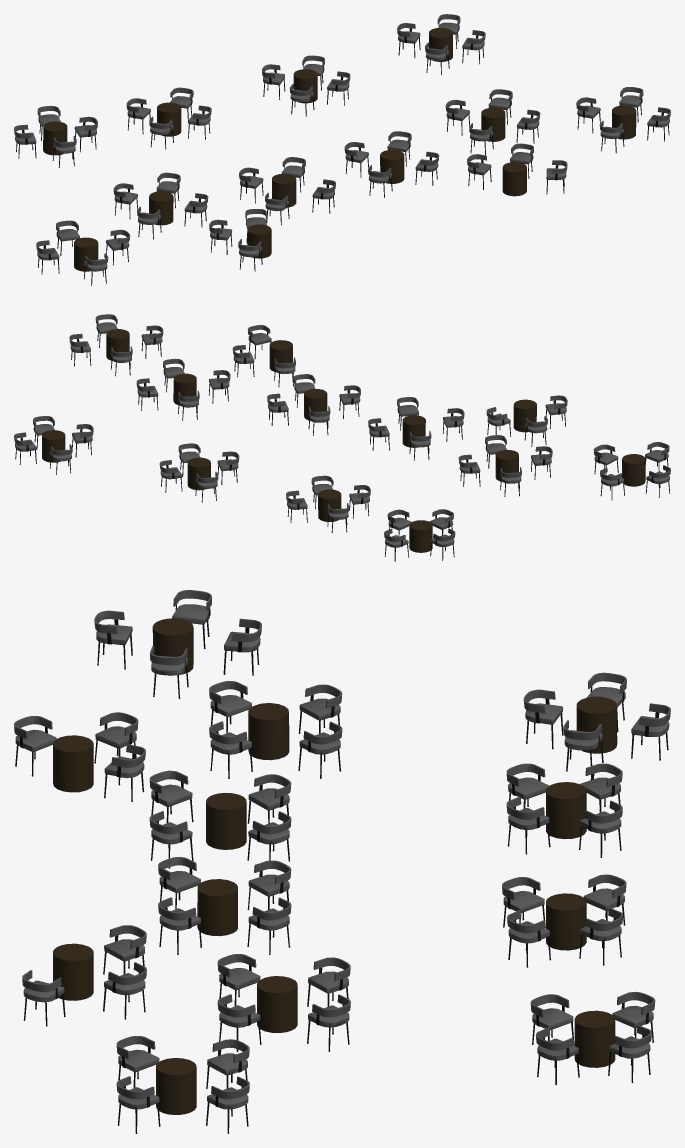
The model's file is Chancery Rosewood_Bar_OutsideFURNITURE_BAKE_V4.glb.
3 views of the same model, one above another, from view 1: azimuth 30°, elevation 25°; view 2: azimuth 150°, elevation 25°; view 3: azimuth 270°, elevation 25° (orthographic). The views are drawn at different scales.
Parts seen in each view (by area): view 1: EagleBarOutdoorFurniture; view 2: EagleBarOutdoorFurniture; view 3: EagleBarOutdoorFurniture.
Part boxes in pixels (<box>): EagleBarOutdoorFurniture: <box>14,14,670,285</box>; EagleBarOutdoorFurniture: <box>14,314,670,561</box>; EagleBarOutdoorFurniture: <box>14,590,670,1133</box>.
Size of the model in its own units: 13.98 by 0.5555 by 7.73.
3 materials, 1 textured.
